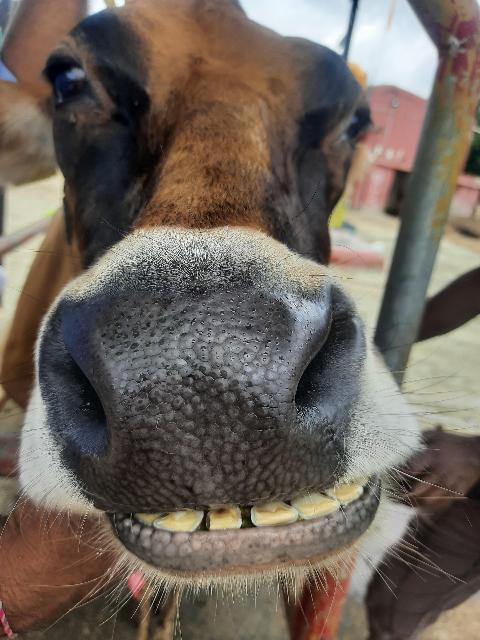Muzzle: (70, 290, 312, 502)
